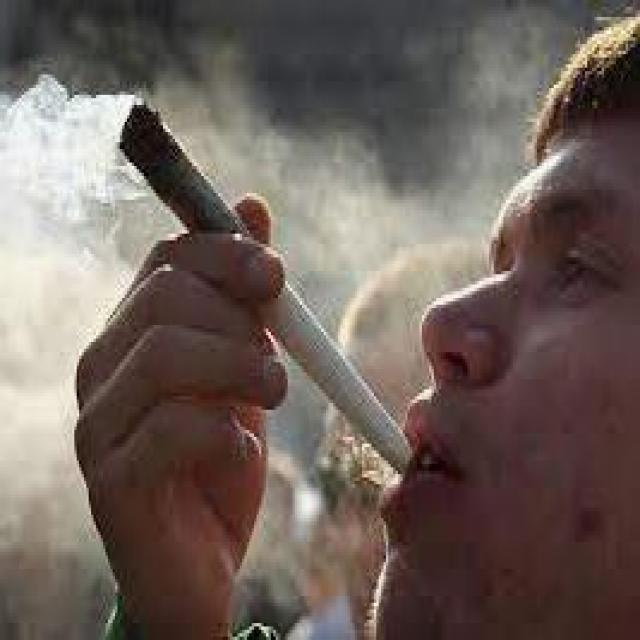cigarette: (115, 95, 412, 474)
